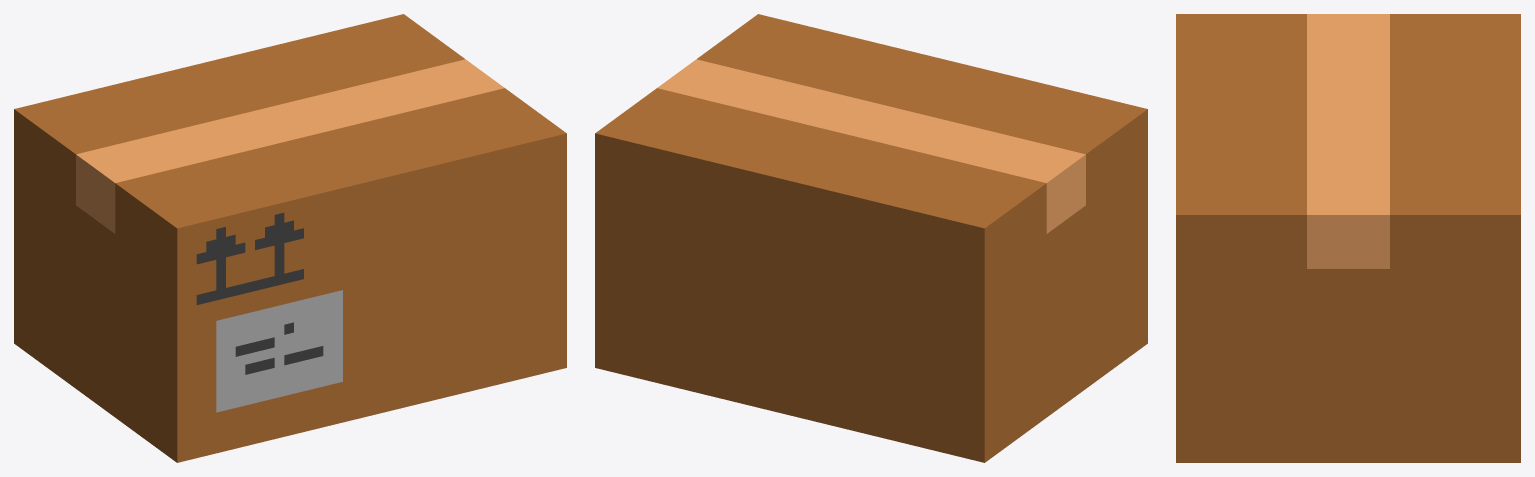
File: carboard closed.obj
The picture shows the model from 3 angles, left to right: view 1: azimuth 30°, elevation 25°; view 2: azimuth 150°, elevation 25°; view 3: azimuth 270°, elevation 25°; orthographic projection. The views are drawn at different scales.
Parts seen in each view (by area): view 1: carboard closed; view 2: carboard closed; view 3: carboard closed.
Part boxes in pixels (x1,y1,x2,y2): carboard closed: (14, 14, 566, 462); carboard closed: (595, 14, 1147, 462); carboard closed: (1176, 14, 1520, 462).
Size of the model in its own units: 40 by 23 by 29.
1 material, 1 textured.
